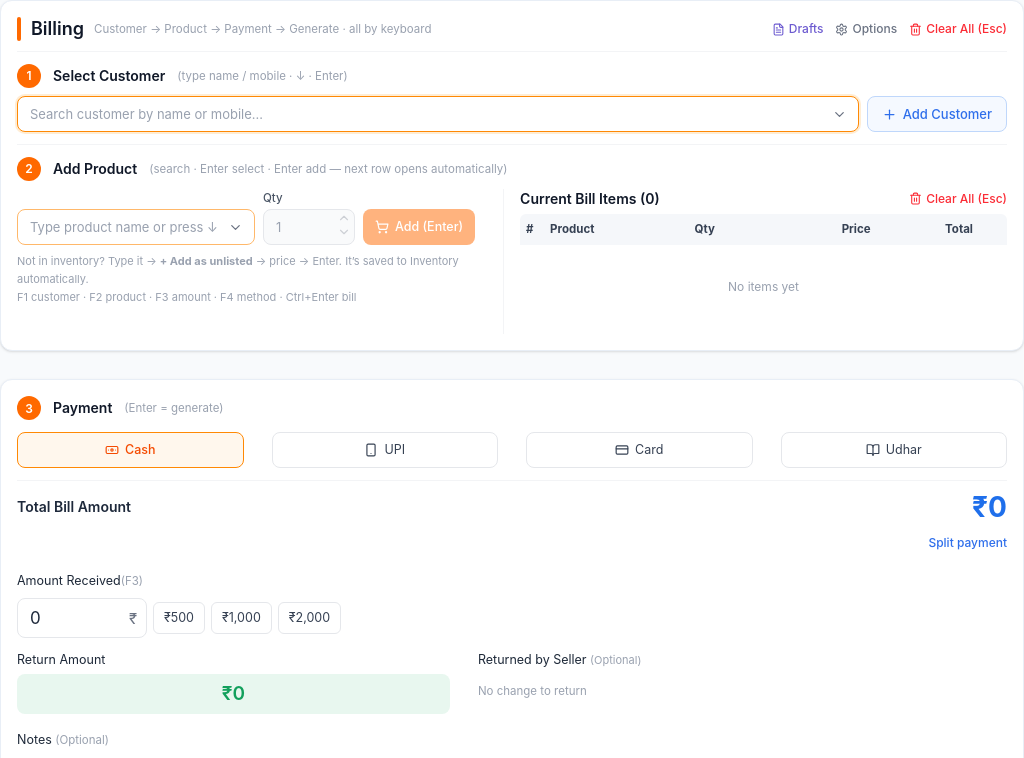
Test case: product search stays editable after a selection › 3 · a different product can be searched and selected, then added
Type "Sug" into the field labelled "product".
click(136, 227); type("Sug")  # box [17,209,255,245]
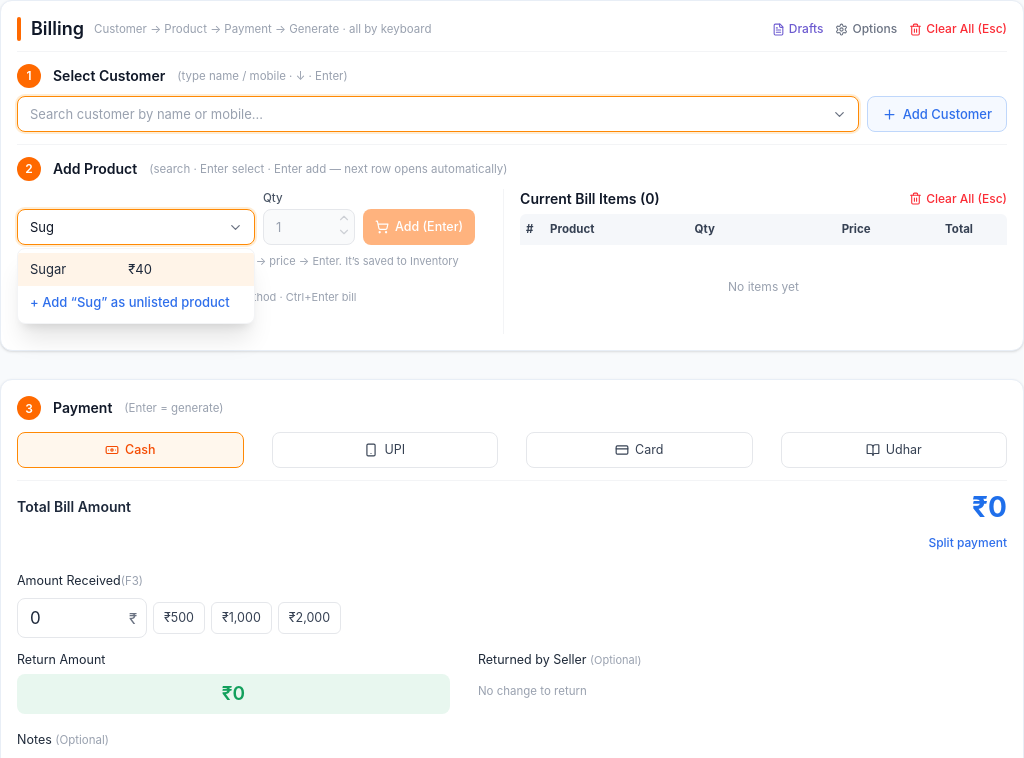
Press Enter in the field named "product", box [17,209,255,245]
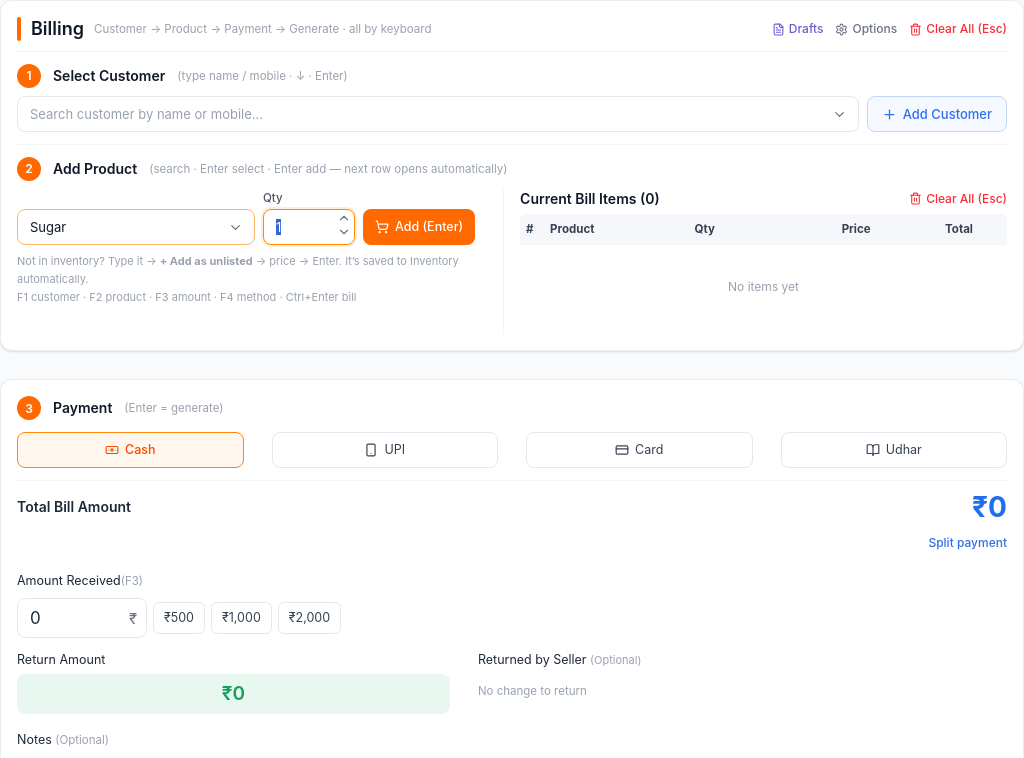
Replace the text in the field named "product" with "Sal" at (136, 227), box [17,209,255,245]
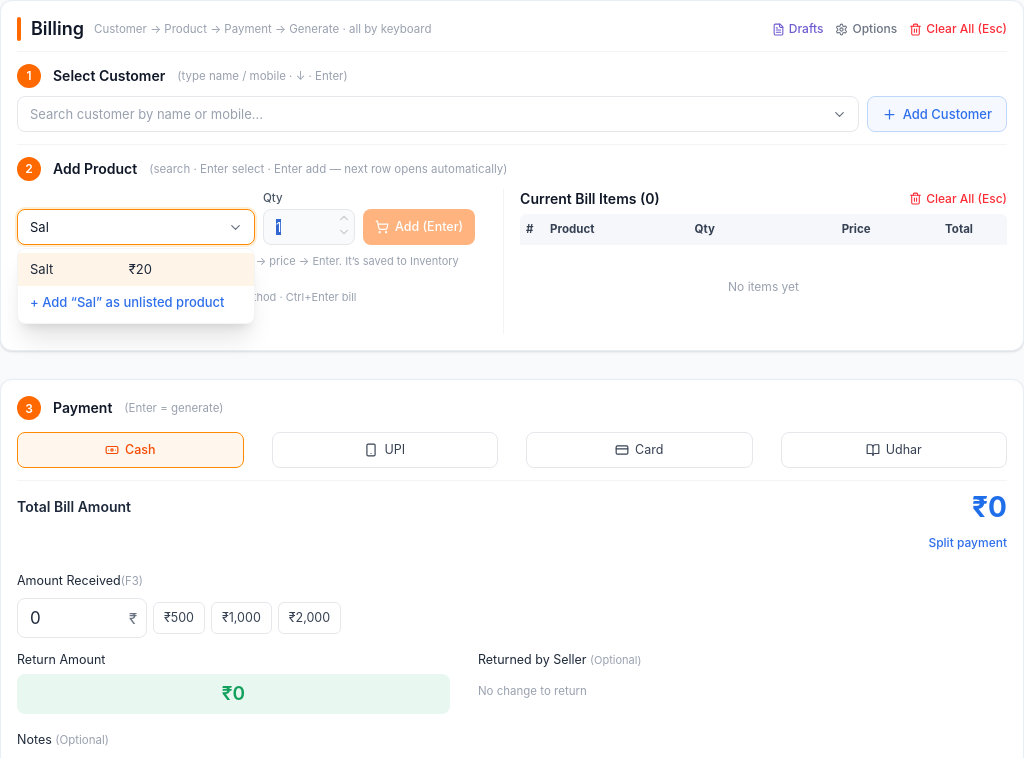
Press Enter in the field named "product", box [17,209,255,245]
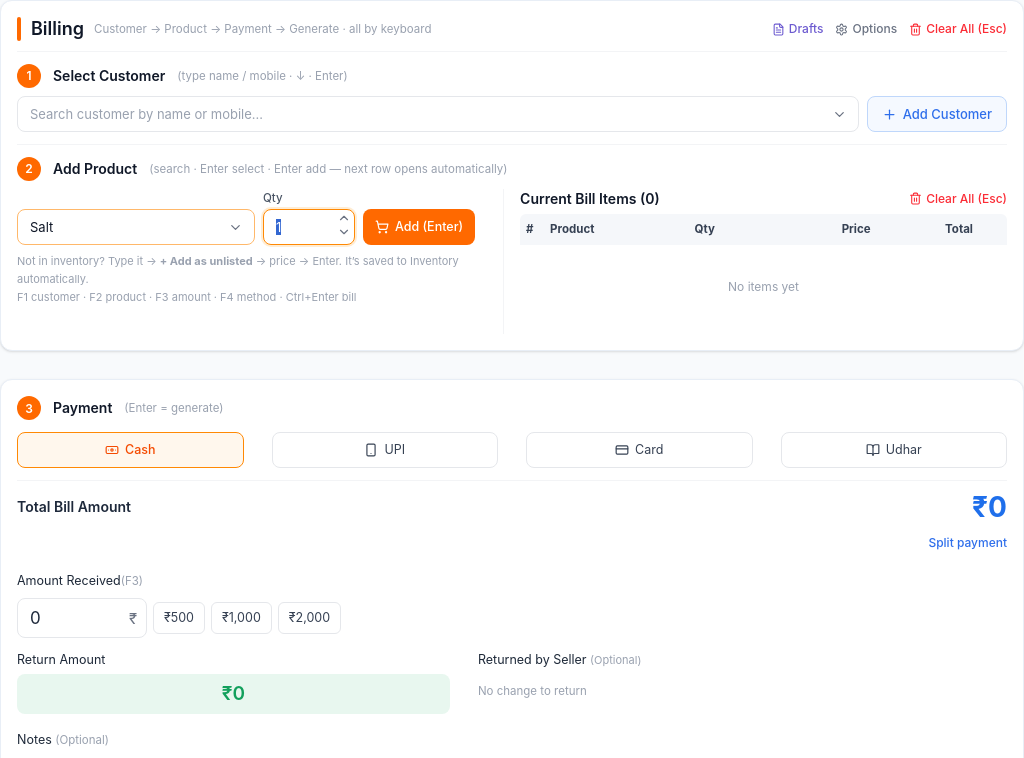
expect the field named "Quantity" is enabled: met, box [263,209,355,245]
Click the button "Add (Enter)".
click(419, 227)  # box [363,209,475,245]
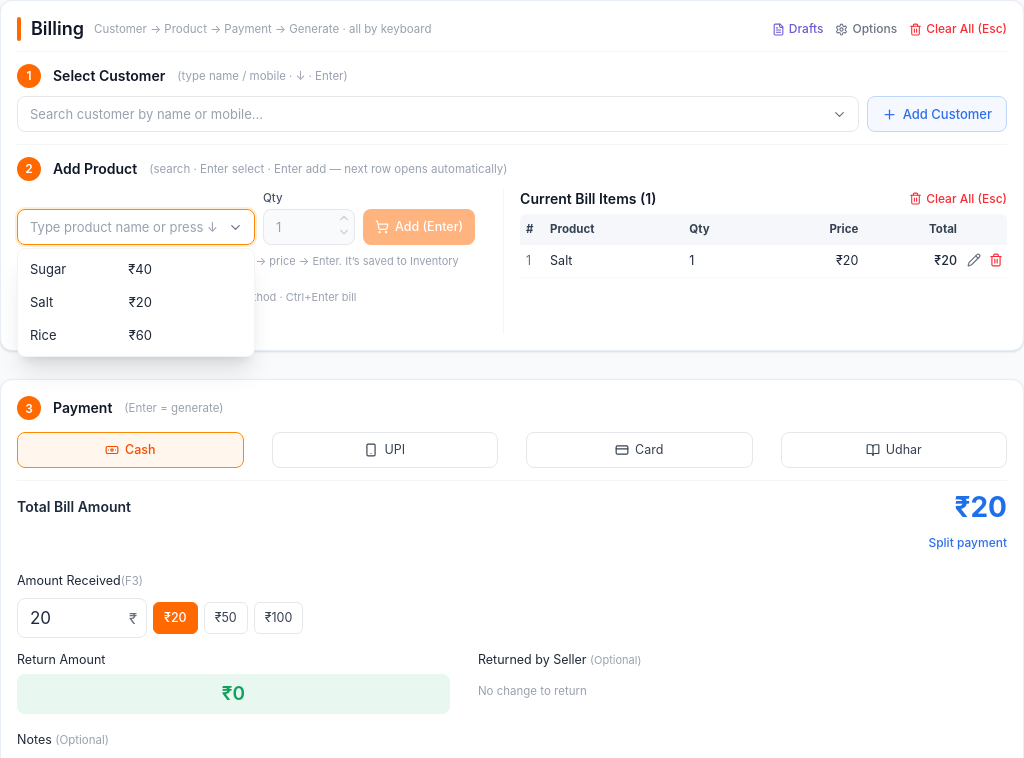
expect the table does not show "Sugar": met
expect the table shows "Salt": met, box [550,253,572,268]
